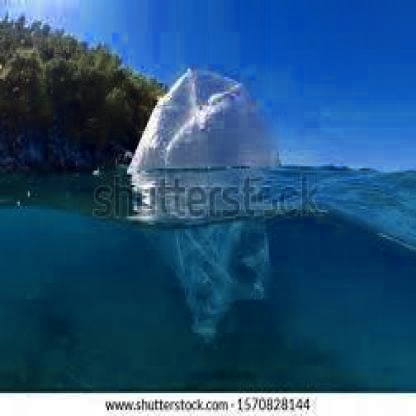pbag: (127, 67, 274, 343)
